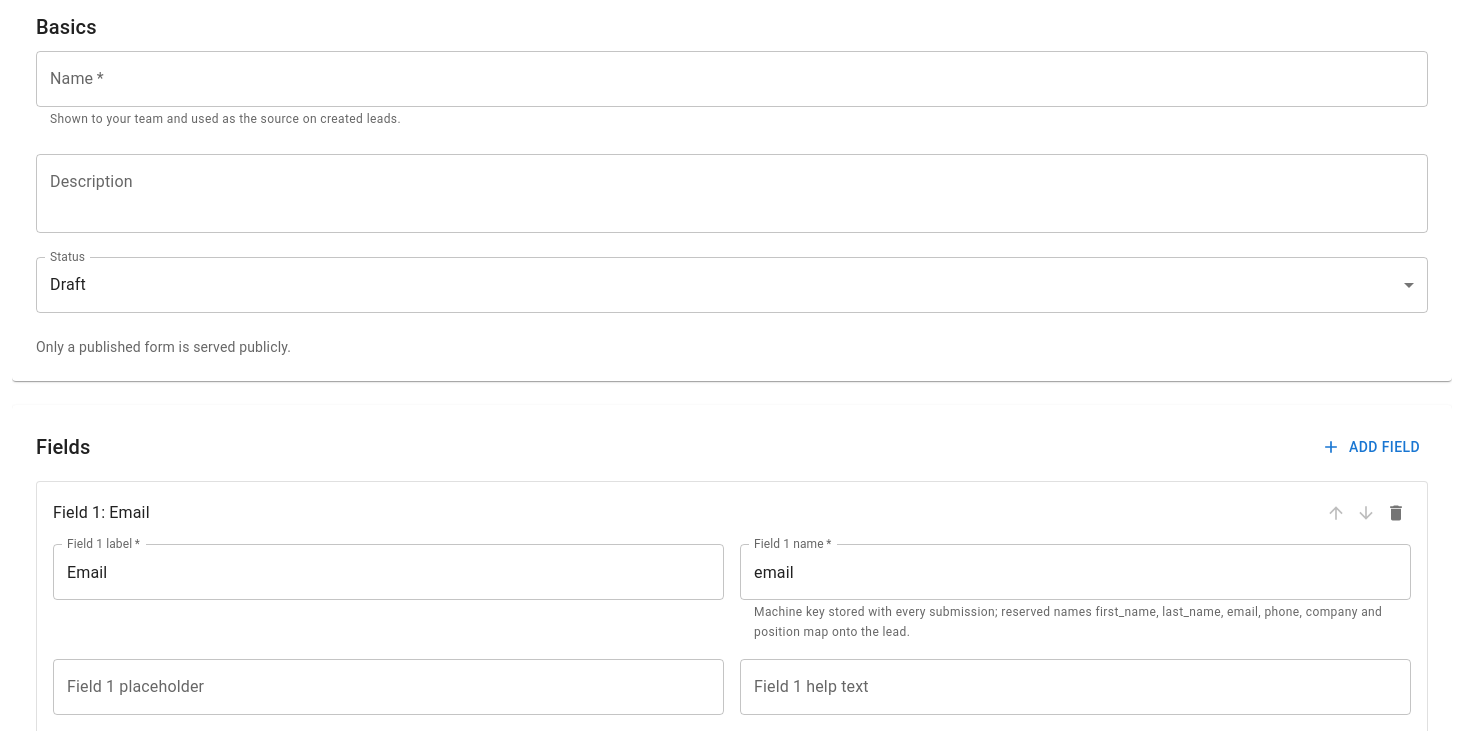
it: FormBuilder › refuses to save a redirect without a URL
Type "Contact us" into the field labelled "Name *".
click(732, 79); type("Contact us")  # box top-left (36, 51), bottom-right (1428, 107)
(page scrolled)
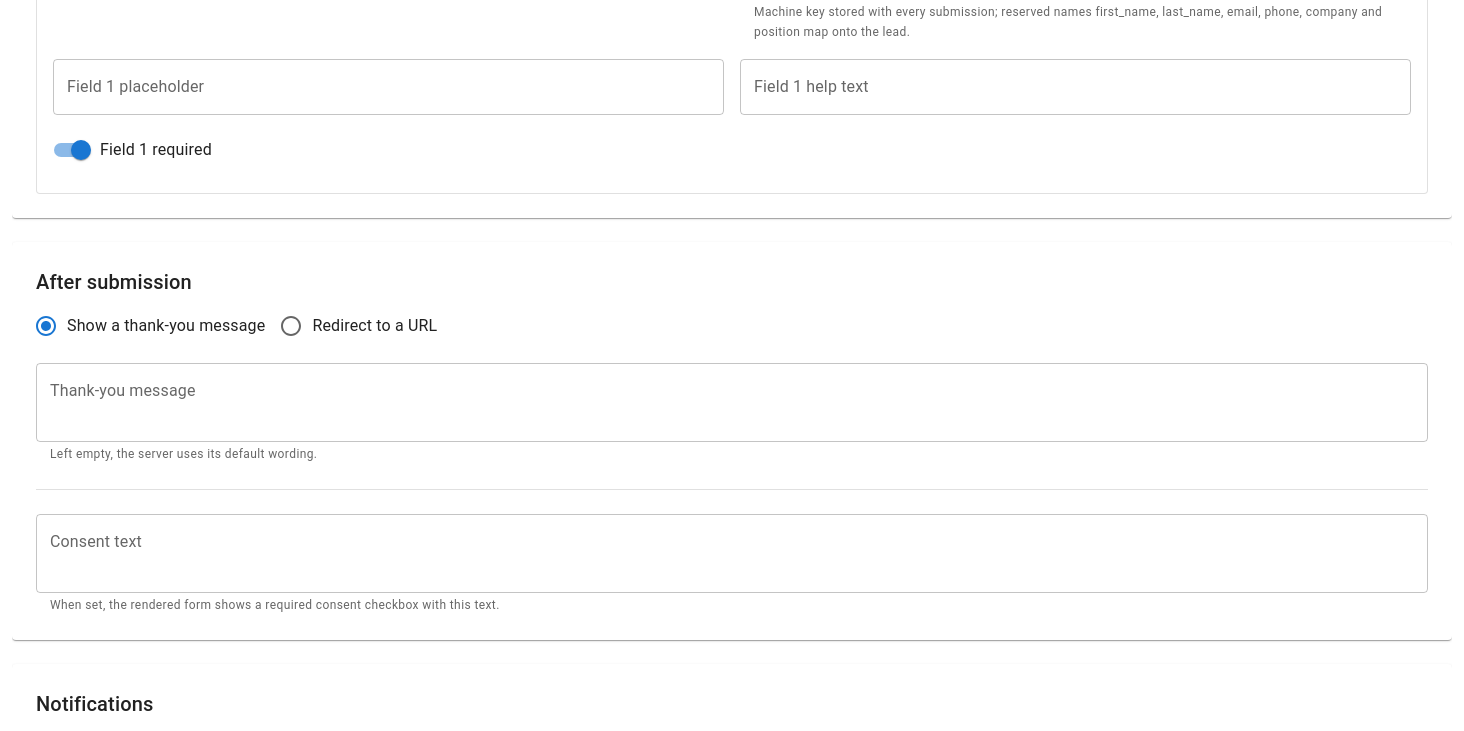
Click the radio button labelled "Redirect to a URL".
click(358, 326)  # box top-left (279, 314), bottom-right (437, 338)
(page scrolled)
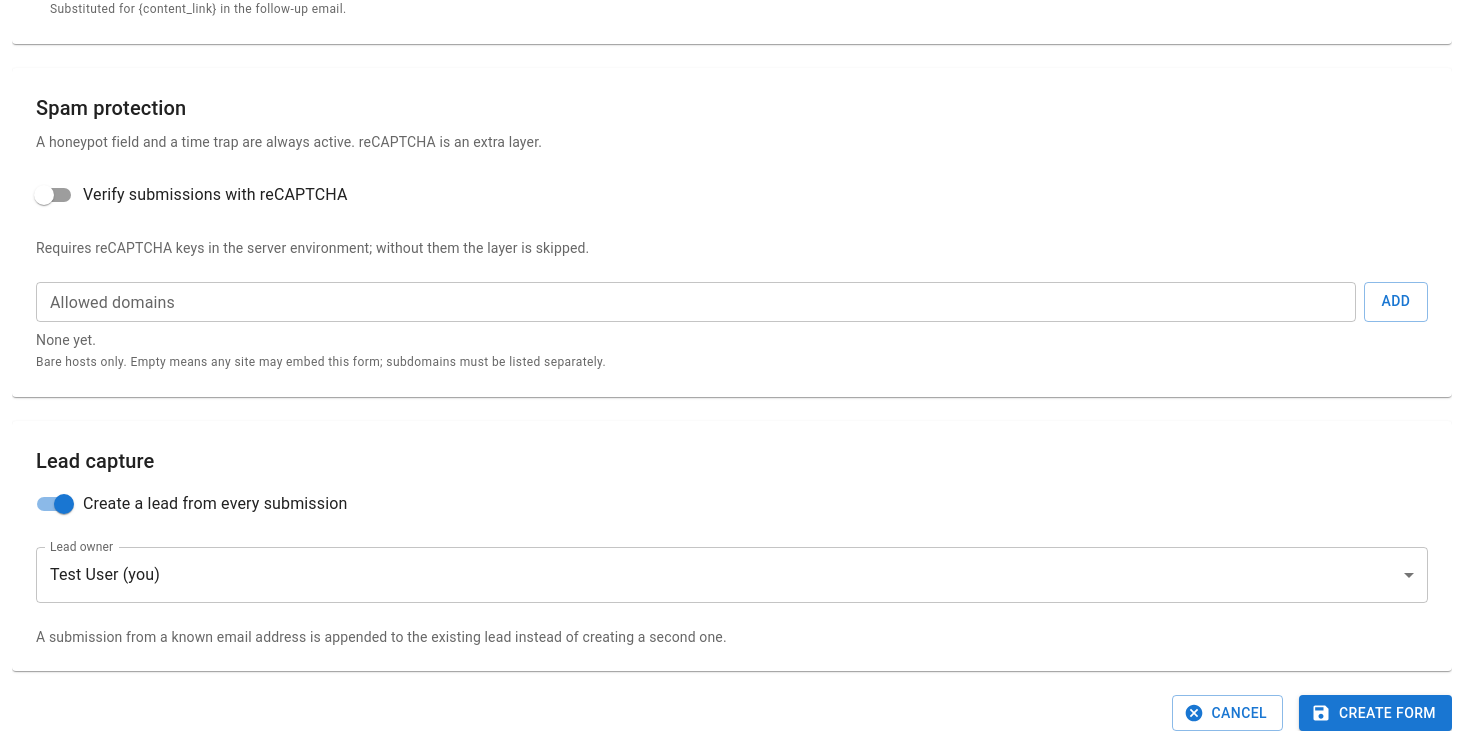
Click the button "Create Form".
click(1376, 713)  # box top-left (1299, 695), bottom-right (1452, 730)
(page scrolled)
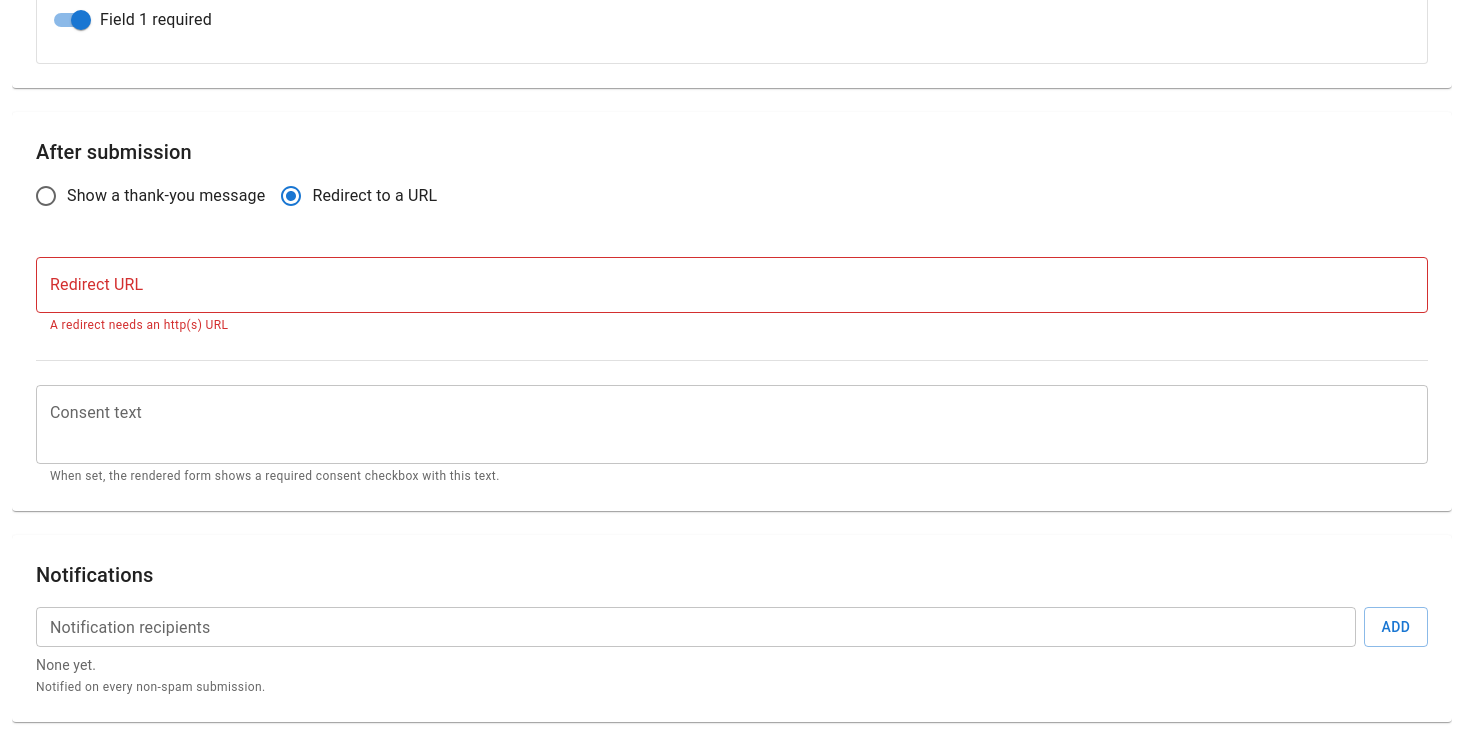
Result: the text "A redirect needs an http(s) URL" is shown at top-left (50, 318), bottom-right (228, 332)
